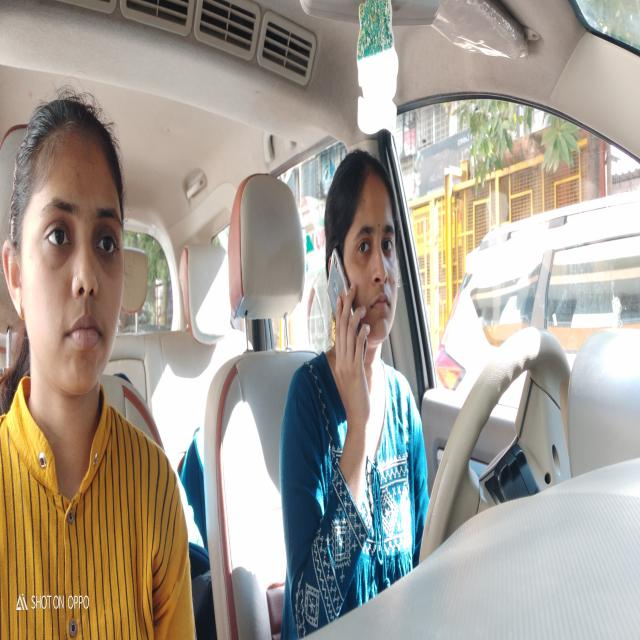mobile: (325, 248, 366, 392)
person: (4, 91, 133, 418), (328, 141, 403, 393)
